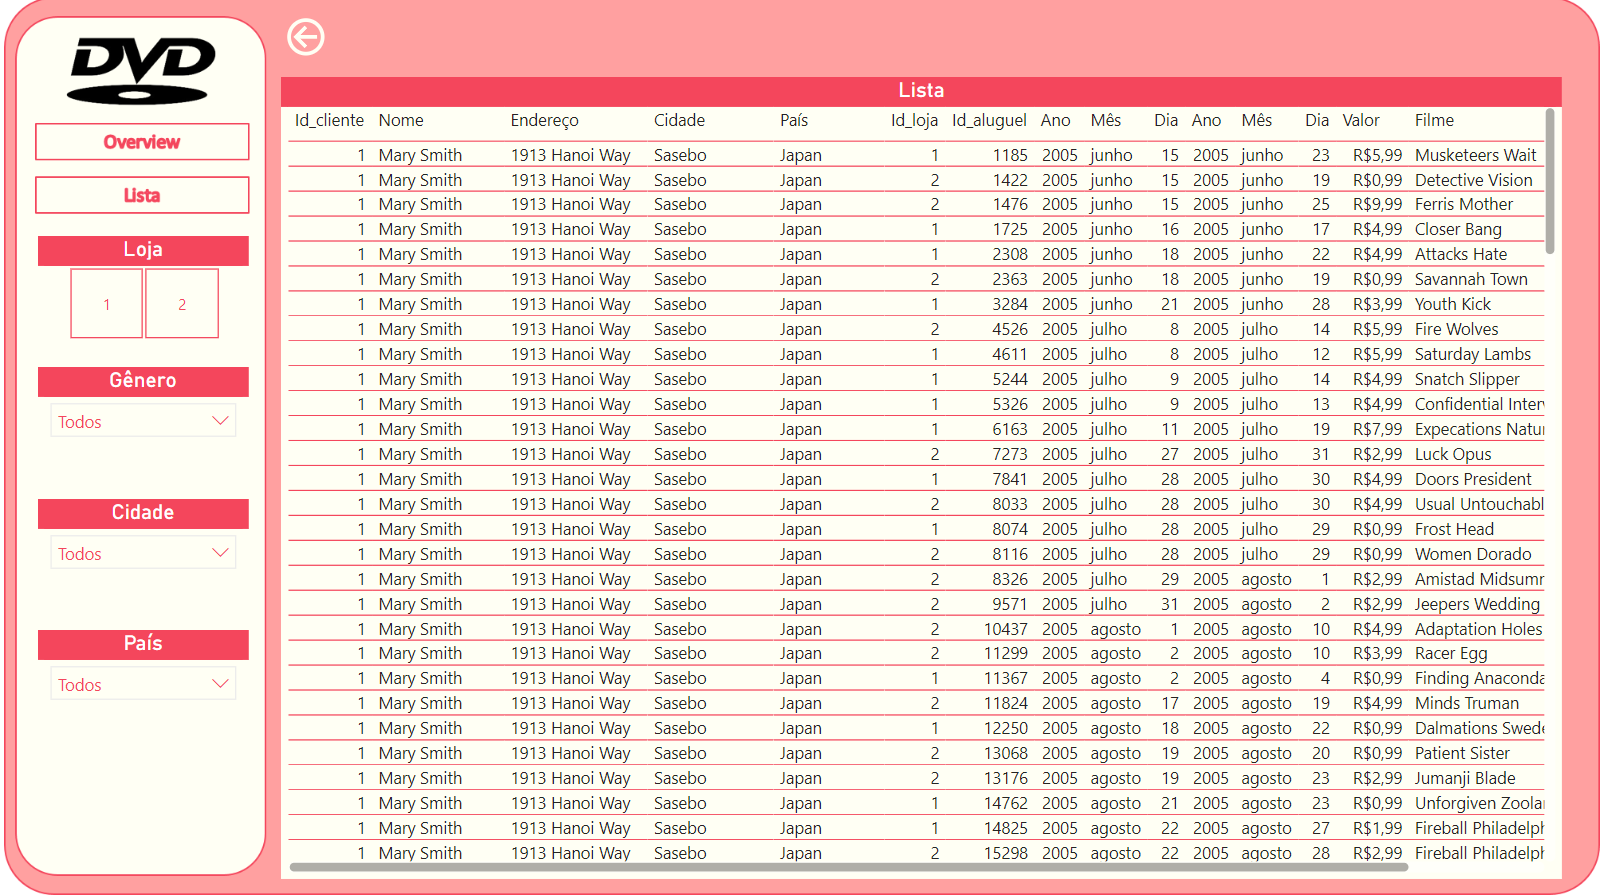

The page's visual inventory and layout, read from the dashboard file:
{"tool":"powerbi","page":{"name":"Lista_Visualizacao","canvas":[1280,720],"ordinal":1},"visuals":[{"type":"tableEx","title":"Lista","fields":{"Values":["public customer.customer_id","public customer.full_name","public address.address","public city.city","public country.country","public staff.store_id","public rental.rental_id","public rental.rental_date.Variation.Hierarquia de datas.Ano","public rental.rental_date.Variation.Hierarquia de datas.Mês","public rental.rental_date.Variation.Hierarquia de datas.Dia","public rental.return_date.Variation.Hierarquia de datas.Ano","public rental.return_date.Variation.Hierarquia de datas.Mês"]},"box":[222,64.5,1027.3,642.6],"z":0},{"type":"actionButton","box":[222,12.3,100.3,39.9],"z":1000},{"type":"slicer","title":"Loja","fields":{"Values":["public staff.store_id"]},"box":[27.6,191.3,168.8,89],"z":2000},{"type":"slicer","title":"Gênero","fields":{"Values":["public category.name"]},"box":[27.6,296.7,168.8,89],"z":3000},{"type":"slicer","title":"Cidade","fields":{"Values":["public city.city"]},"box":[27.6,402.1,168.8,89],"z":4000},{"type":"slicer","title":"País","fields":{"Values":["public country.country"]},"box":[27.6,507.5,168.8,89],"z":5000},{"type":"actionButton","box":[20.5,141.2,176,33.8],"z":6000},{"type":"actionButton","box":[20.5,100.3,176,33.8],"z":7000}]}

Visuals, with their boxes in screenshot pixels (x1, y1, x2, y2), scaled from the page's 1280x720 canvas onto the 1606x895 screenshot:
"Lista" tableEx: x1=279 y1=80 x2=1567 y2=879
actionButton: x1=279 y1=15 x2=404 y2=65
"Loja" slicer: x1=35 y1=238 x2=246 y2=348
"Gênero" slicer: x1=35 y1=369 x2=246 y2=479
"Cidade" slicer: x1=35 y1=500 x2=246 y2=610
"País" slicer: x1=35 y1=631 x2=246 y2=741
actionButton: x1=26 y1=176 x2=247 y2=218
actionButton: x1=26 y1=125 x2=247 y2=167
